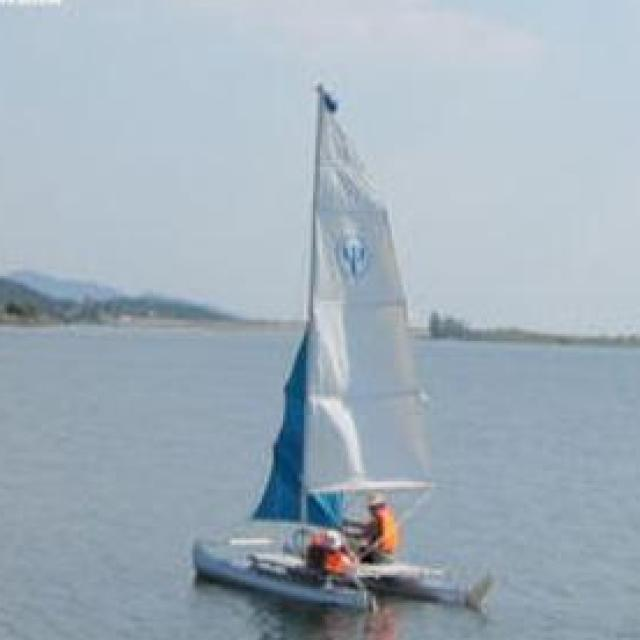sailboat: (172, 86, 494, 612)
